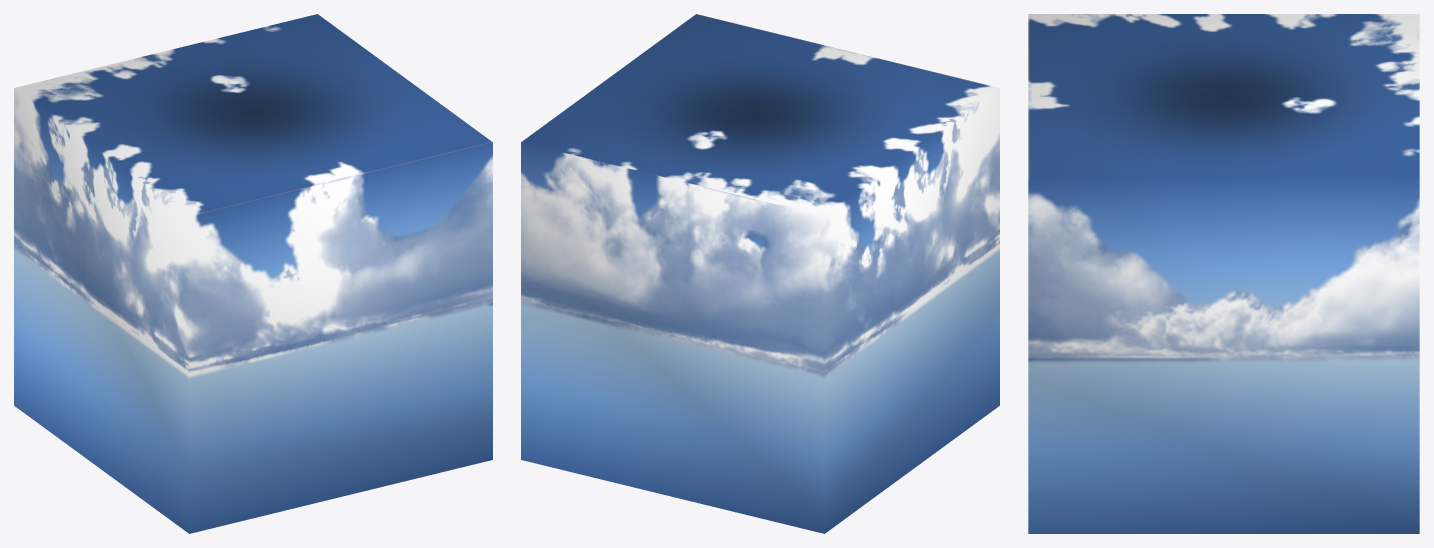
3 views of the same model, side by side, from view 1: azimuth 30°, elevation 25°; view 2: azimuth 150°, elevation 25°; view 3: azimuth 270°, elevation 25° (orthographic). The views are drawn at different scales.
Visible parts, largest first — view 1: Cube.005; view 2: Cube.005; view 3: Cube.005.
Boxes of the visible parts, left/top/right/bottom form: Cube.005: left=14, top=14, right=492, bottom=533; Cube.005: left=521, top=14, right=999, bottom=533; Cube.005: left=1028, top=14, right=1419, bottom=533.
Size of the model in its own units: 801 by 801 by 801.
1 material, 1 textured.
